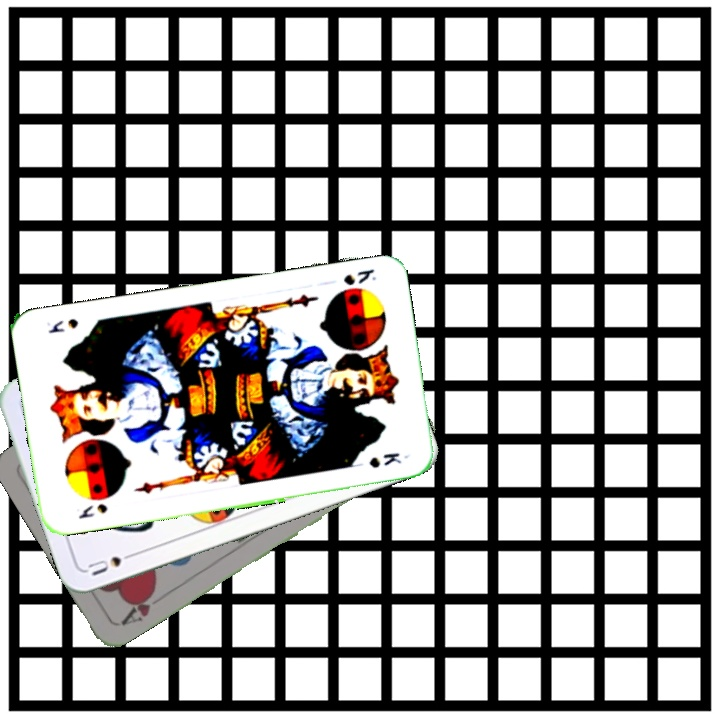HA: (117, 584, 160, 628)
SK: (339, 265, 379, 288), (74, 499, 110, 521)
SU: (84, 547, 141, 579)
